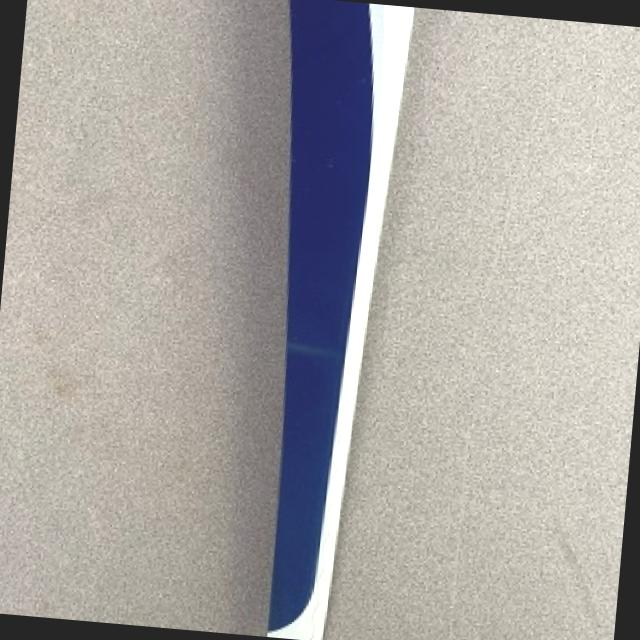healthy: (0, 0, 414, 639), (269, 0, 414, 639)
